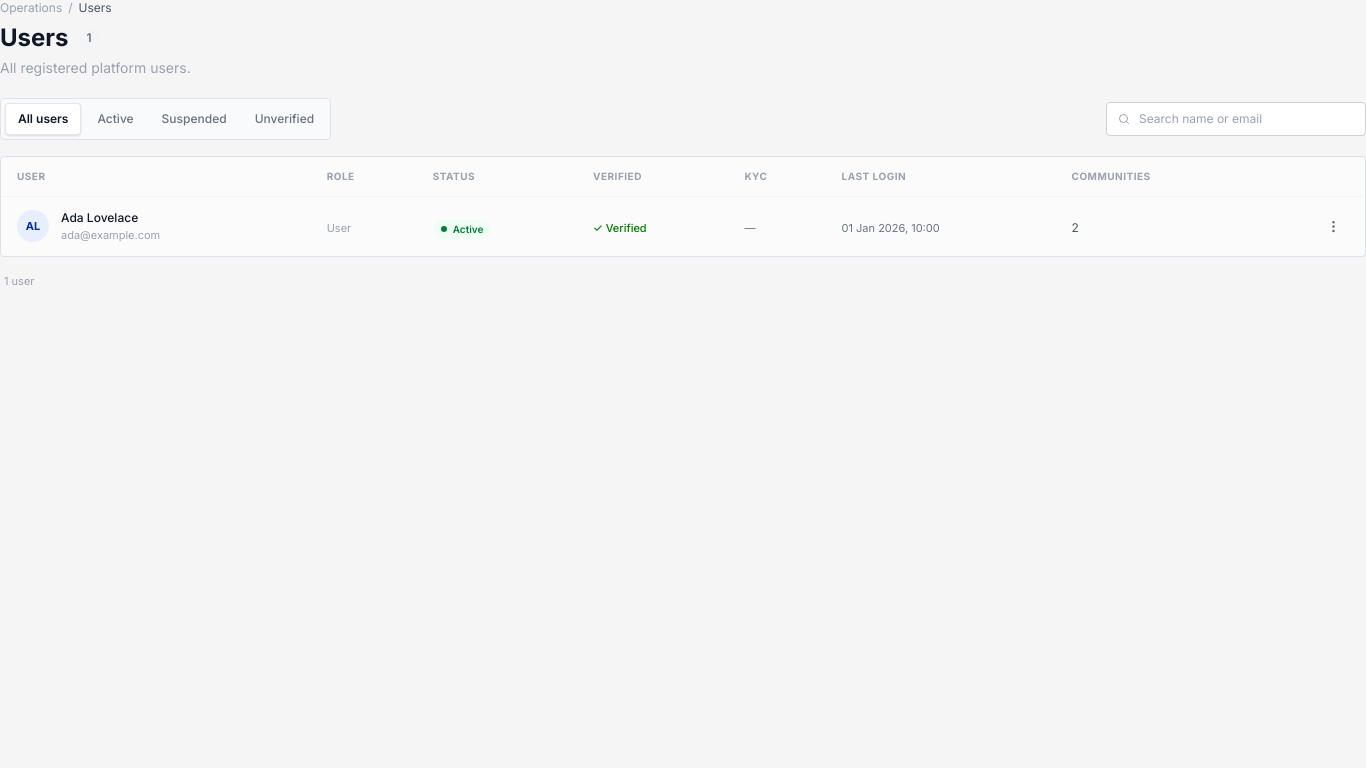
Test: UsersSection — details › shows permission errors without displaying the list snapshot as fresh details
Click the text "ada@example.com" at (33, 226), box [1, 196, 1365, 256]
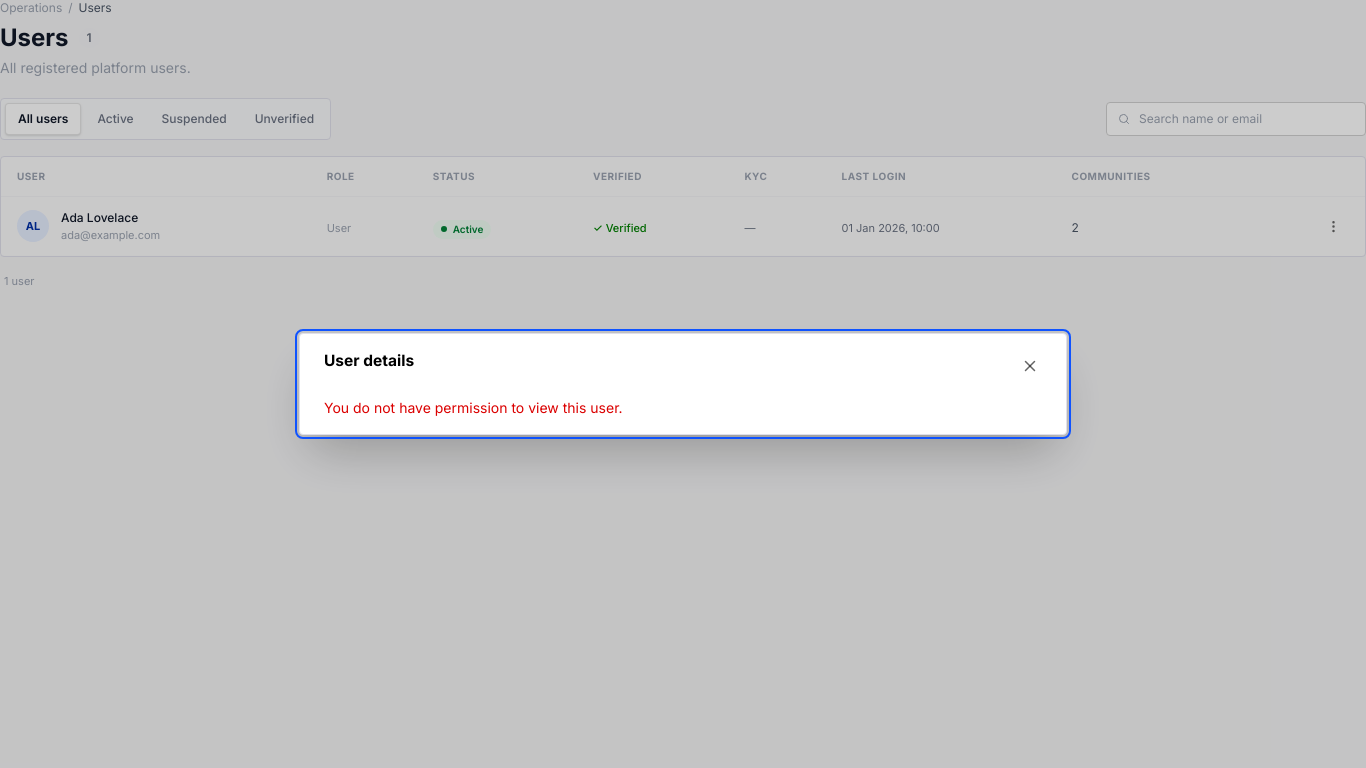
Check: the message shows "permission", box [324, 399, 623, 416]
